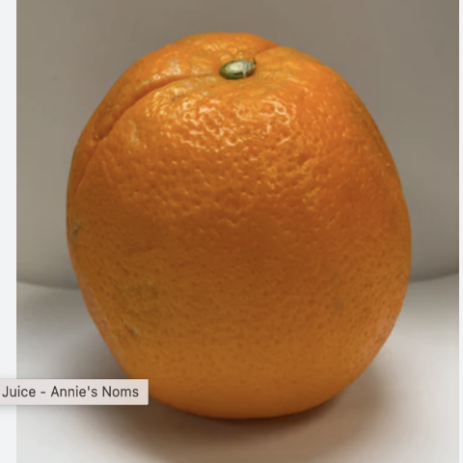orange: (38, 8, 430, 419)
